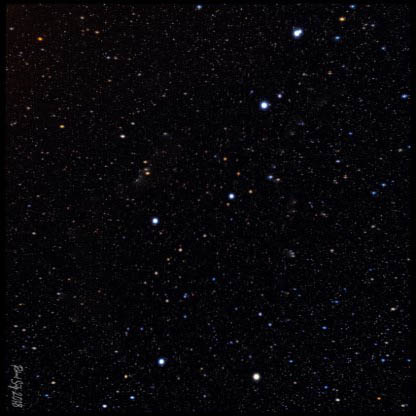Ursa Major: (148, 351, 180, 373), (287, 18, 312, 46), (241, 366, 267, 388), (250, 95, 276, 115), (222, 184, 243, 207), (148, 208, 165, 232)
